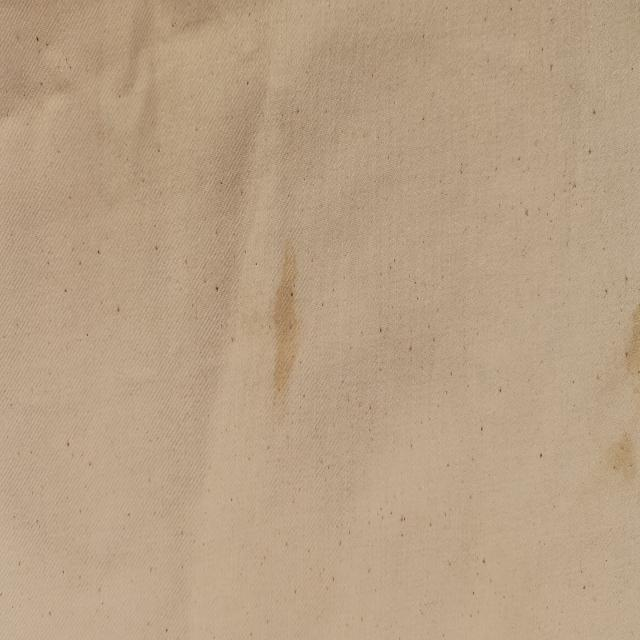taaaches: (266, 229, 318, 426)
